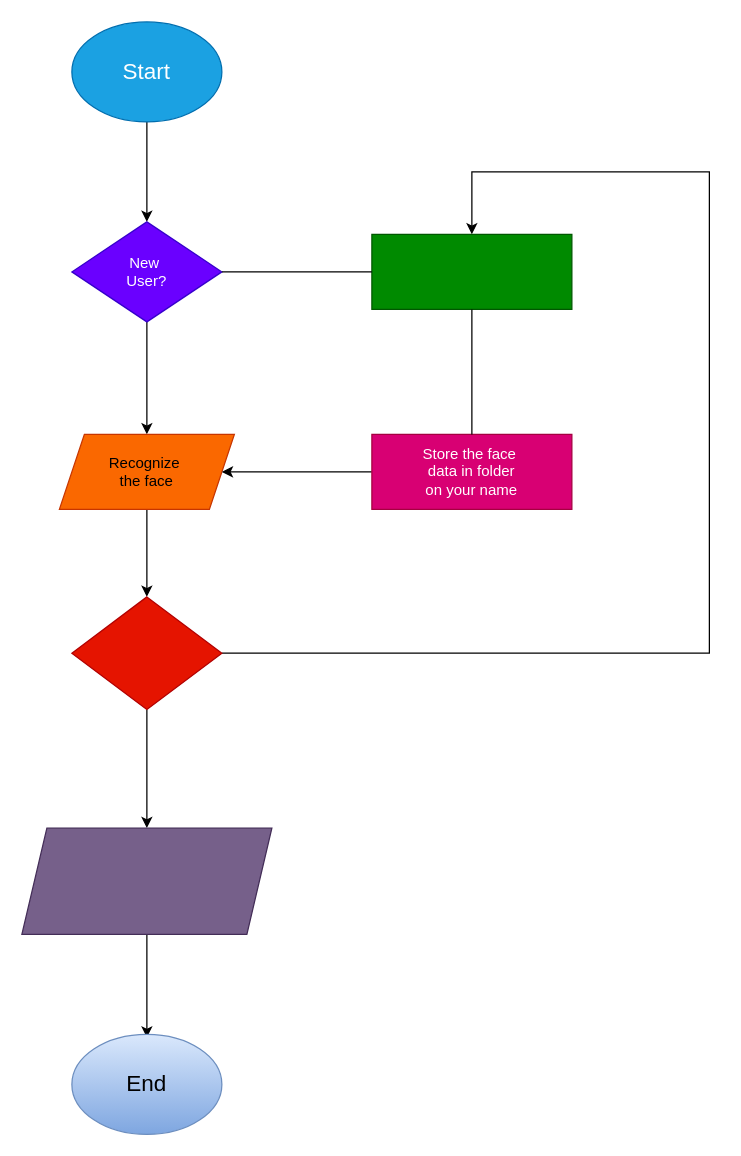
The diagram is 741 pixels wide and 1156 high, and some of its shapes have lost their labels. Each missing label, with the box of its shape:
Face Recognized: (71, 596, 222, 709)
Give Your Photograph: (371, 233, 572, 309)
Stored in csv title with Registration Number and Date Time & Entry: (21, 827, 272, 934)
